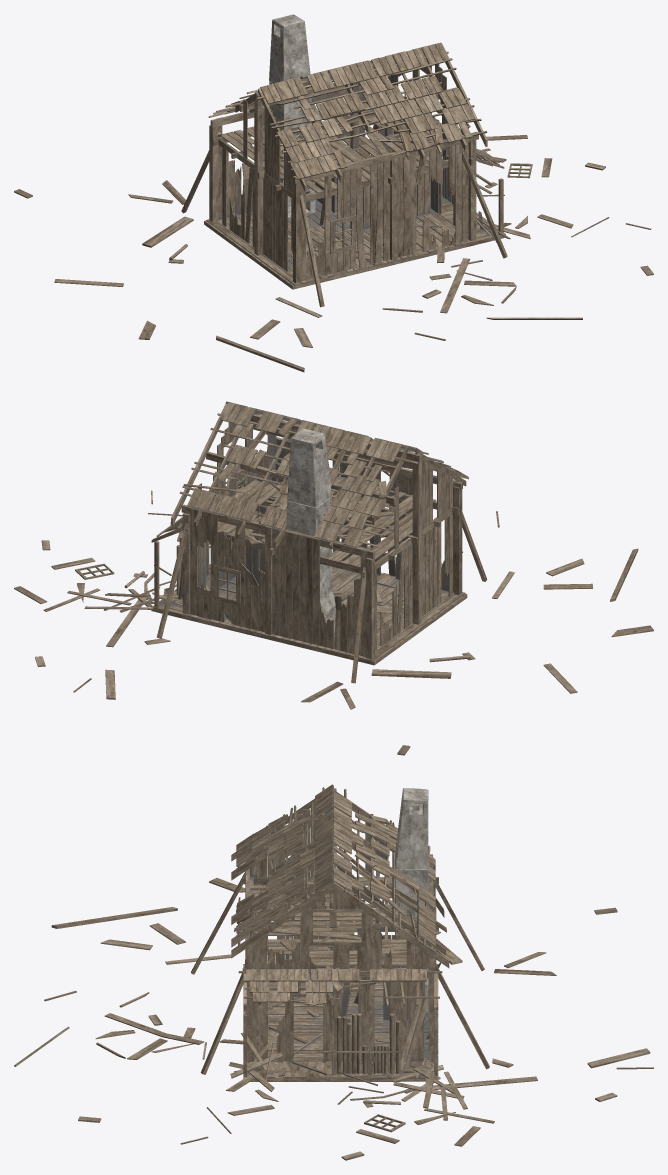
Rendered from abandoned_house.glb.
3 views of the same model, one above another, from view 1: azimuth 30°, elevation 25°; view 2: azimuth 150°, elevation 25°; view 3: azimuth 270°, elevation 25° (orthographic). The views are drawn at different scales.
Parts seen in each view (by area): view 1: Cube.597, Cube.511, Cube.425, Cube.001, Cube.032, Cube.055, Cube.058, Cube.059, Cube.057, Cube.460, Cube.452, Cube.457 (+11 smaller); view 2: Cube.597, Cube.001, Cube.511, Cube.425, Cube.058, Cube.055, Cube.052, Cube.468, Cube.483, Cube.054, Cube.493, Cube.491 (+15 smaller); view 3: Cube.597, Cube.511, Cube.042, Cube.001, Cube.030, Cube.659, Cube.610, Cube.502, Cube.366, Cube.054, Cube.607, Cube.622 (+1 smaller).
Part boxes in pixels (bbox=[...]): Cube.597: bbox=[269, 14, 310, 83]; Cube.511: bbox=[204, 209, 505, 289]; Cube.425: bbox=[254, 94, 263, 255]; Cube.001: bbox=[269, 81, 315, 218]; Cube.032: bbox=[293, 131, 478, 183]; Cube.055: bbox=[209, 125, 218, 222]; Cube.058: bbox=[293, 180, 301, 283]; Cube.059: bbox=[390, 157, 397, 260]; Cube.057: bbox=[468, 137, 476, 240]; Cube.460: bbox=[403, 156, 410, 255]; Cube.452: bbox=[355, 168, 366, 268]; Cube.457: bbox=[374, 162, 383, 264]; Cube.597: bbox=[287, 428, 331, 507]; Cube.001: bbox=[287, 496, 335, 632]; Cube.511: bbox=[151, 566, 467, 665]; Cube.425: bbox=[412, 455, 421, 624]; Cube.058: bbox=[453, 486, 462, 595]; Cube.055: bbox=[365, 557, 374, 659]; Cube.052: bbox=[181, 504, 374, 558]; Cube.468: bbox=[265, 525, 272, 634]; Cube.483: bbox=[272, 528, 279, 635]; Cube.054: bbox=[182, 513, 190, 614]; Cube.493: bbox=[190, 508, 197, 615]; Cube.491: bbox=[210, 513, 217, 620]; Cube.597: bbox=[395, 788, 428, 868]; Cube.511: bbox=[243, 963, 438, 1081]; Cube.042: bbox=[333, 882, 449, 968]; Cube.001: bbox=[395, 869, 428, 1012]; Cube.030: bbox=[231, 881, 333, 958]; Cube.659: bbox=[51, 907, 177, 928]; Cube.610: bbox=[200, 966, 245, 1074]; Cube.502: bbox=[366, 976, 374, 1061]; Cube.366: bbox=[300, 899, 309, 968]; Cube.054: bbox=[428, 958, 435, 1062]; Cube.607: bbox=[435, 963, 489, 1069]; Cube.622: bbox=[104, 1013, 204, 1044].
Size of the model in its own units: 17.61 by 6.24 by 16.71.
1 material, 1 textured.
